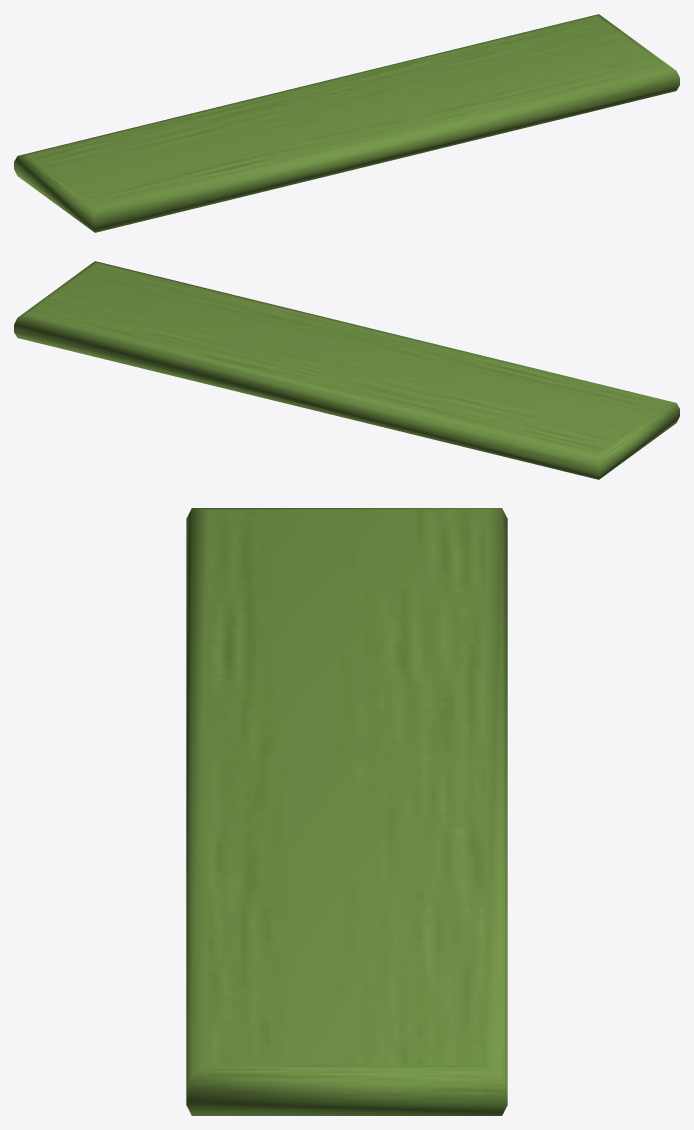
Rendered from Straight_Shelving_08.FBX.
3 renders of one model, top to bottom at view 1: azimuth 30°, elevation 25°; view 2: azimuth 150°, elevation 25°; view 3: azimuth 270°, elevation 25°, orthographic. The views are drawn at different scales.
Visible parts, largest first — view 1: Shelf_Straight; view 2: Shelf_Straight; view 3: Shelf_Straight.
Part boxes in pixels (box(x1,y1,x2,y2)): Shelf_Straight: box(14, 14, 679, 232); Shelf_Straight: box(14, 261, 679, 479); Shelf_Straight: box(186, 508, 507, 1115).
Size of the model in its own units: 200 by 8 by 47.55.
